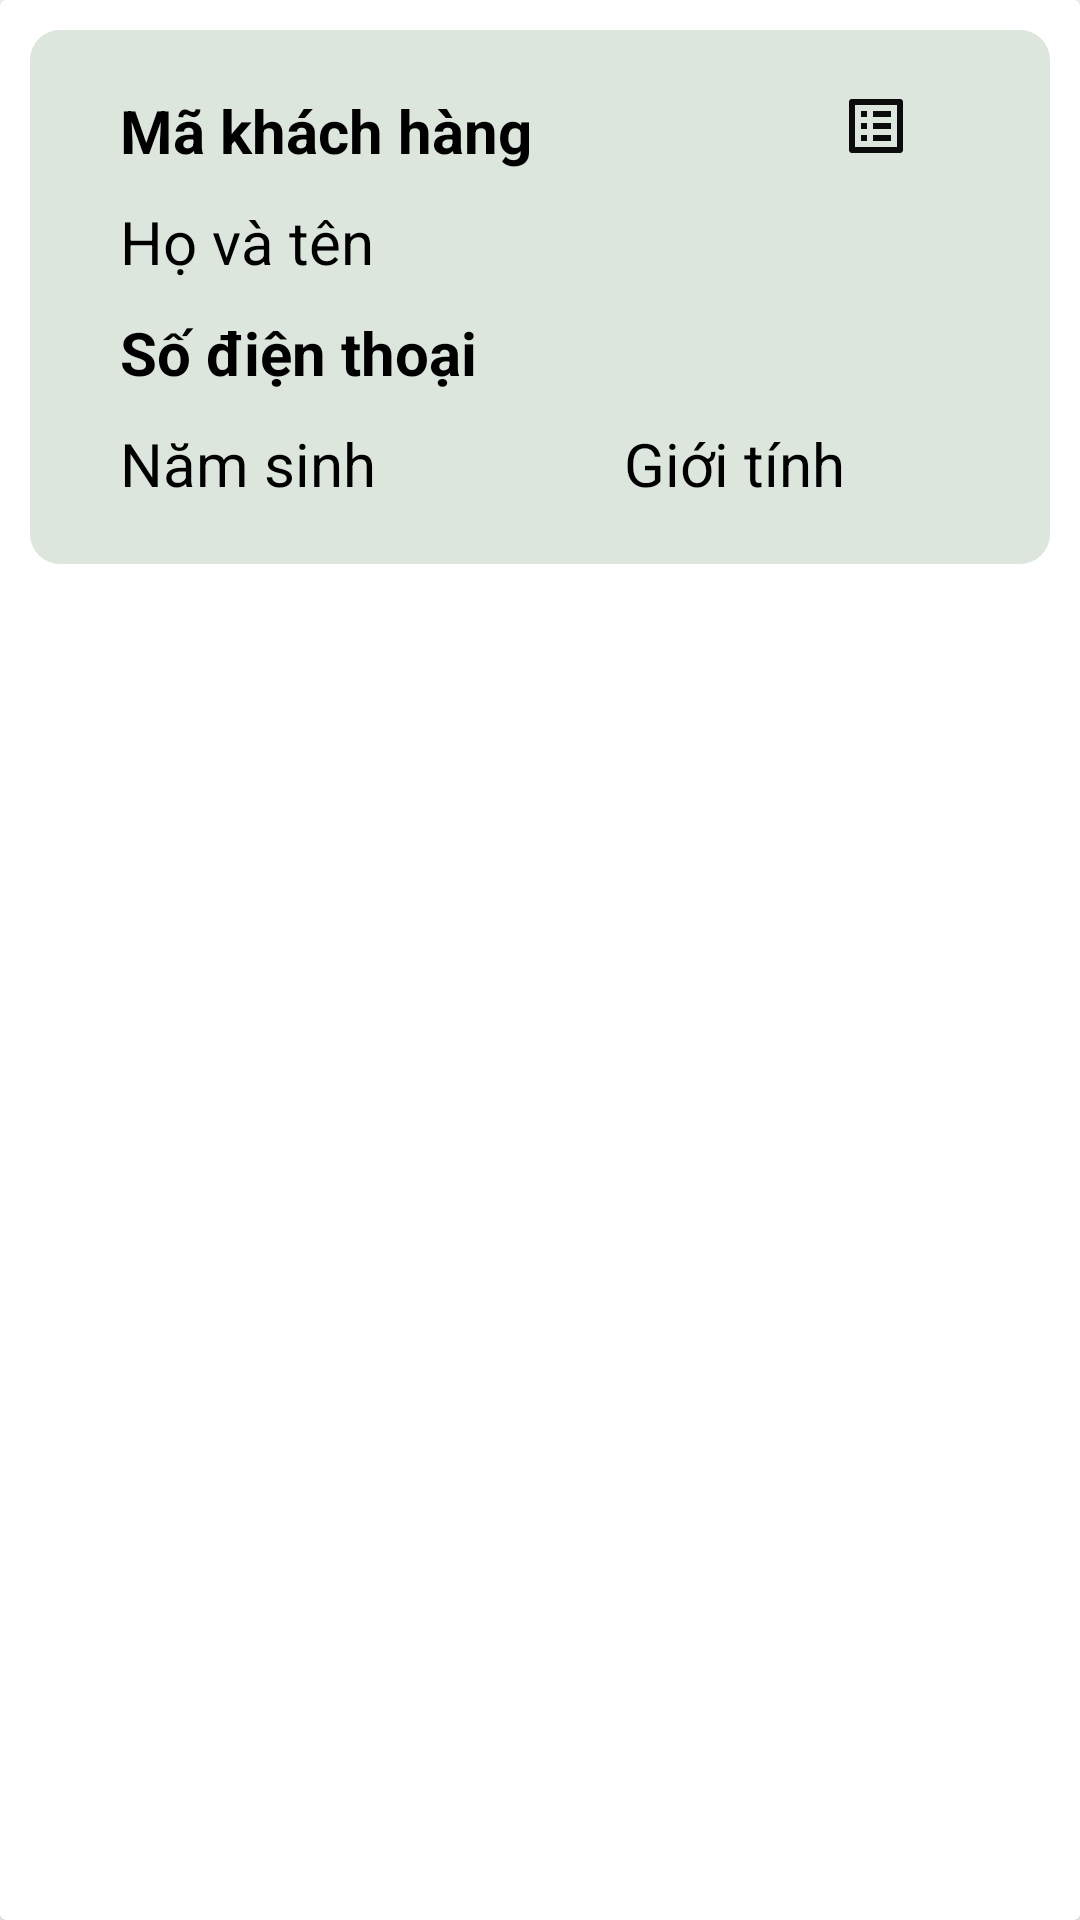

Icon bounding boxes for this 1080w x 1920h phone screenshot, format (x1, y1, x2, y2):
list: (849, 99, 903, 153)
